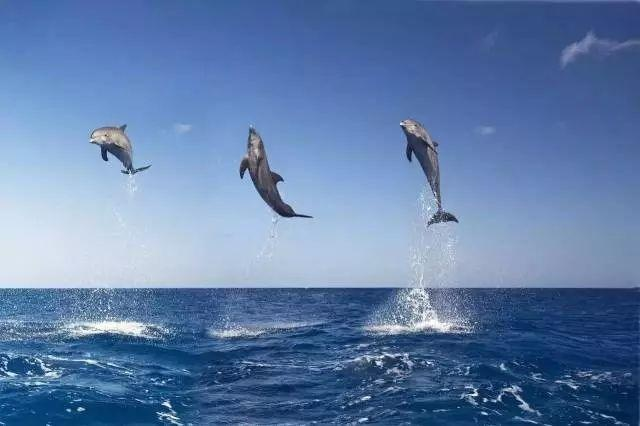fish: (232, 119, 321, 220), (396, 113, 468, 230), (87, 121, 157, 179)
